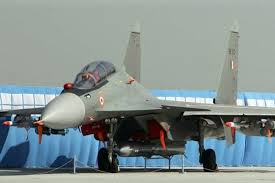maybay_muctieu: (6, 45, 275, 168)
